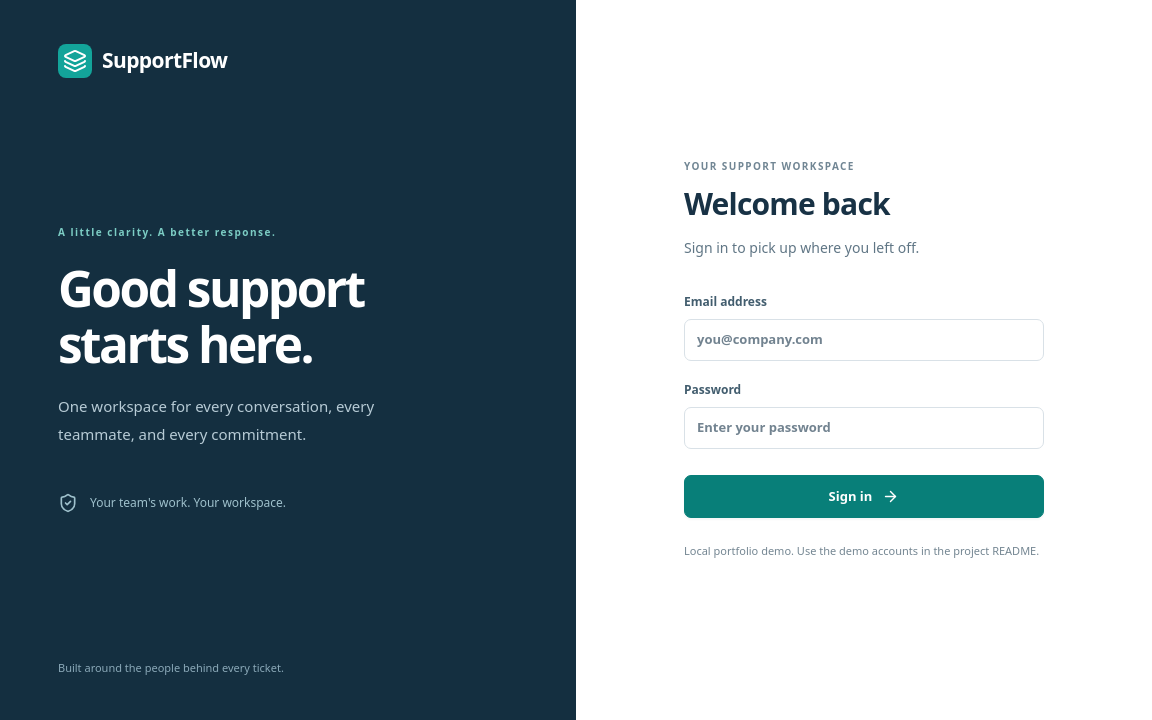
Scenario: validates required login fields and shows generic 401 error
Step 1. Type "customer@example.com" into the field labelled "Email address" → (864, 340), box [684,319,1044,361]
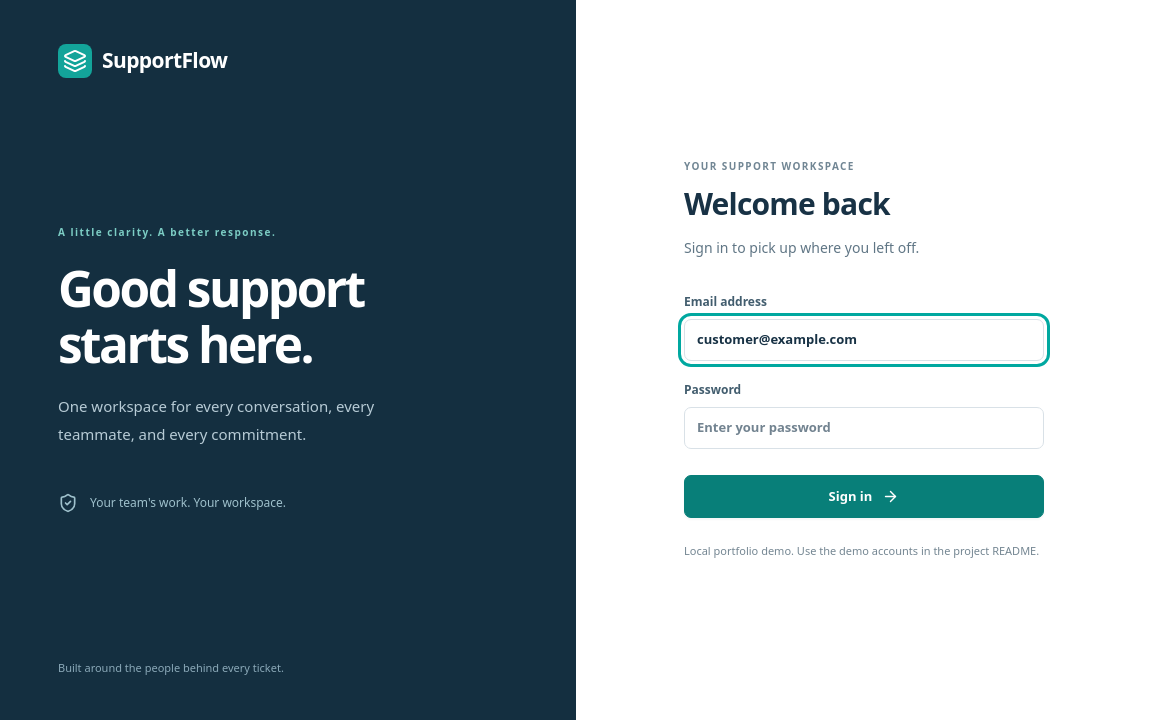
Step 2. Type "wrongpassword" into the password field labelled "Password" → (864, 428), box [684,407,1044,449]
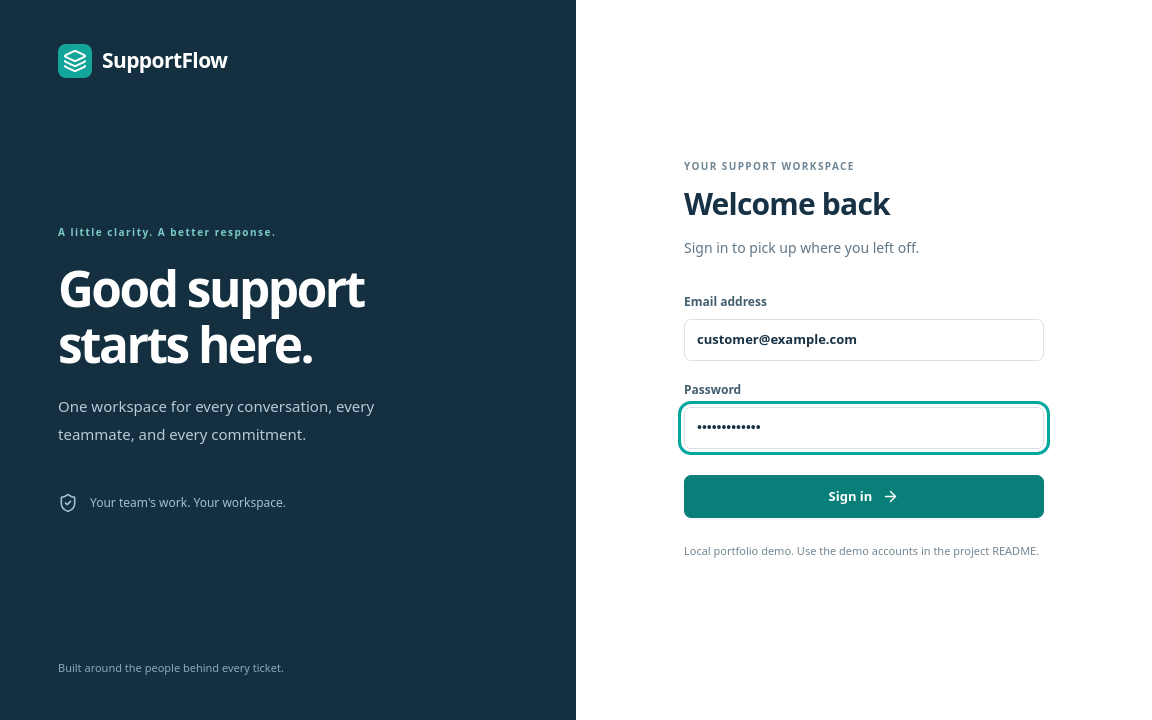
Step 3. Click the button "Sign in" → (864, 497), box [684,475,1044,518]
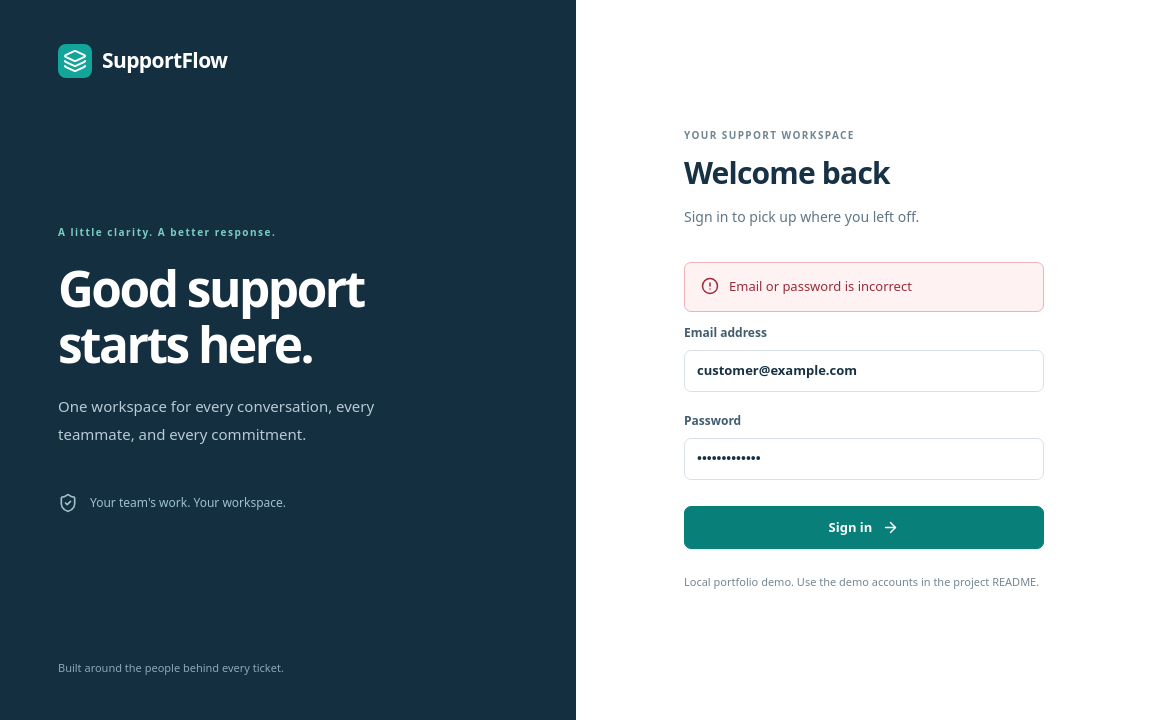
Result: the message reads "Email or password is incorrect" at [729,277,912,295]
